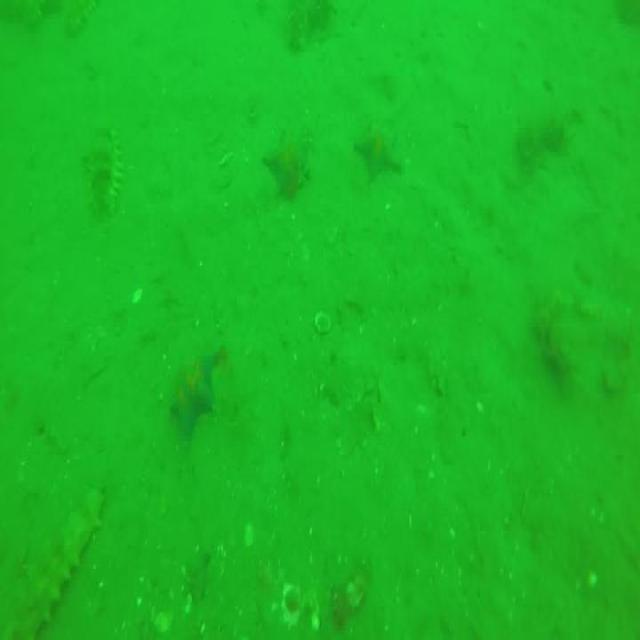holothurian: (14, 486, 105, 640), (84, 128, 126, 215), (64, 0, 96, 35)
scallop: (281, 585, 305, 624), (347, 574, 366, 612), (314, 313, 330, 336)
starfish: (170, 348, 220, 438), (264, 125, 309, 197), (354, 125, 404, 188)
